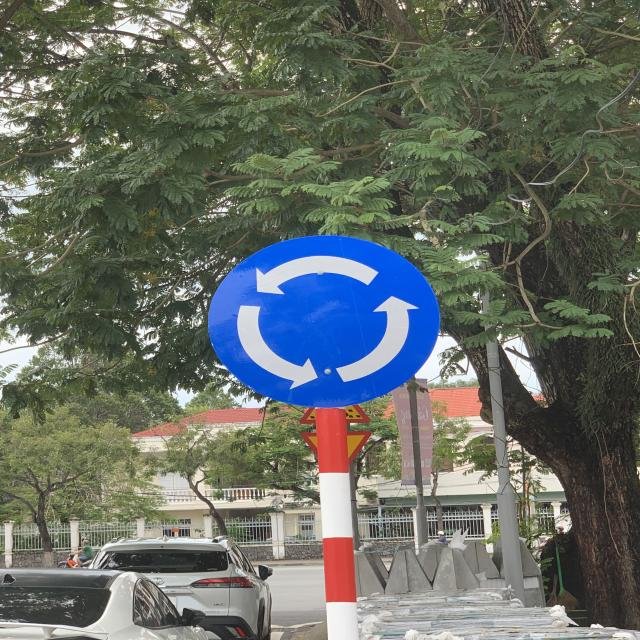Xe_Bus: (208, 237, 444, 406)
